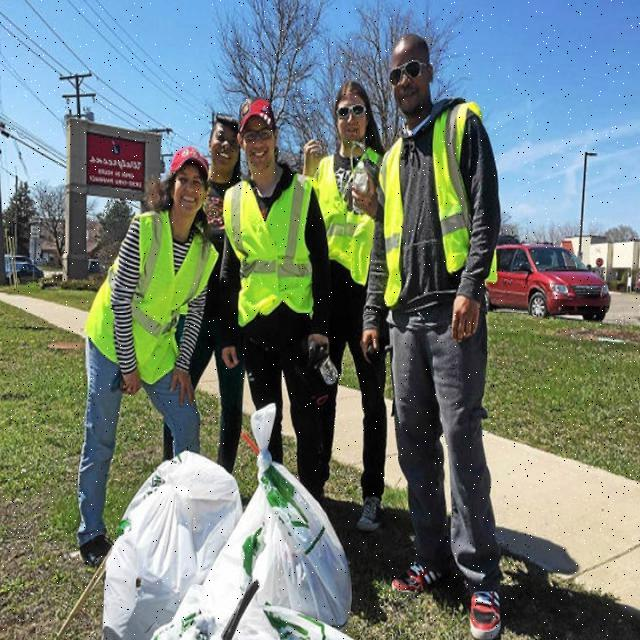Person: (382, 35, 502, 625), (80, 150, 218, 567), (223, 98, 322, 470), (300, 78, 385, 508)
Vest: (373, 103, 480, 302), (89, 223, 212, 374), (223, 175, 314, 318), (314, 153, 377, 269)
